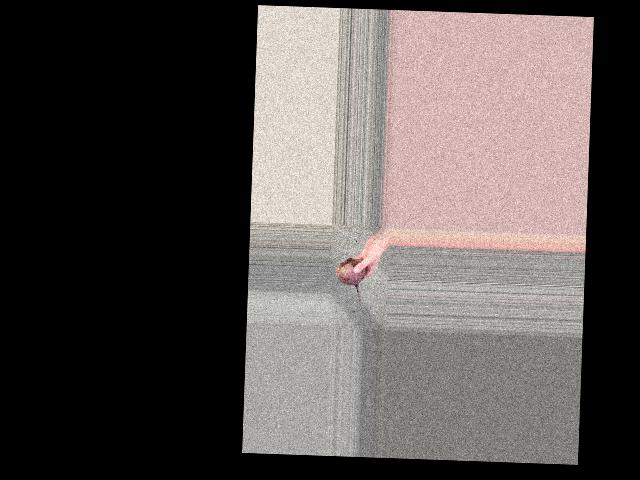beet: (334, 257, 365, 312)
